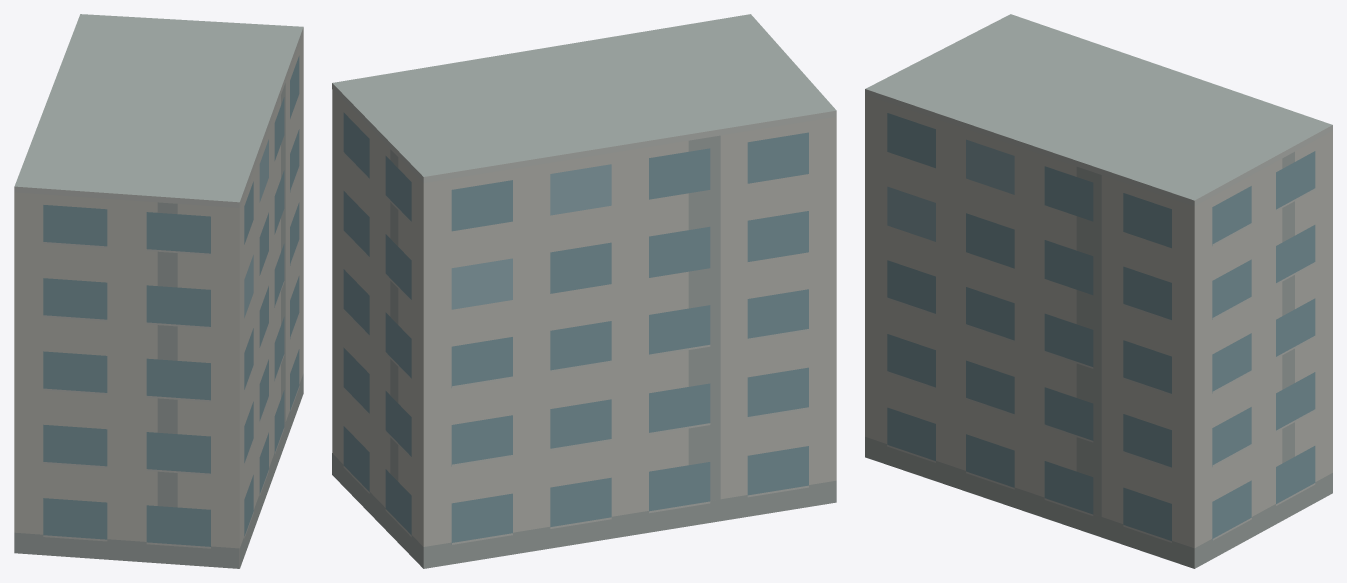
The model's file is survey-upis-32808040.glb.
3 views of the same model, side by side, from view 1: azimuth 30°, elevation 25°; view 2: azimuth 150°, elevation 25°; view 3: azimuth 270°, elevation 25° (orthographic). The views are drawn at different scales.
Visible parts, largest first — view 1: survey-upis-32808040.tmp; view 2: survey-upis-32808040.tmp; view 3: survey-upis-32808040.tmp.
Part boxes in pixels (bbox=[...]): survey-upis-32808040.tmp: bbox=[14, 14, 303, 568]; survey-upis-32808040.tmp: bbox=[332, 14, 836, 568]; survey-upis-32808040.tmp: bbox=[865, 14, 1332, 568].
Size of the model in its own units: 16.58 by 15.25 by 17.56.
